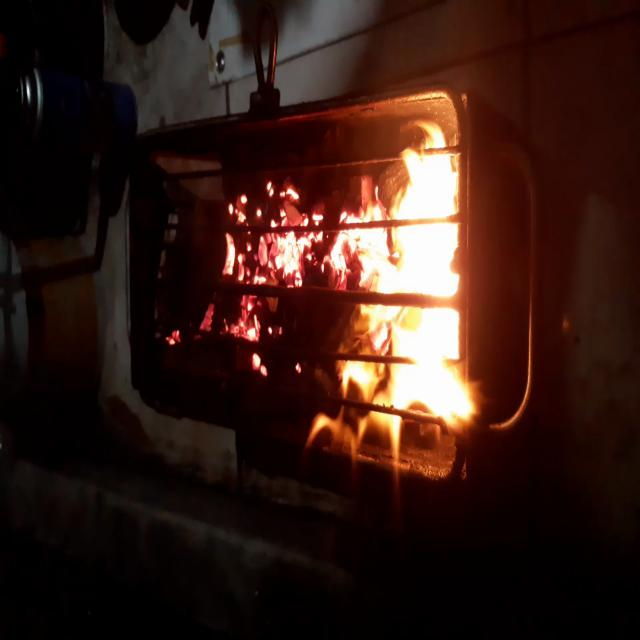Fire: (336, 115, 472, 478), (149, 177, 365, 381)
